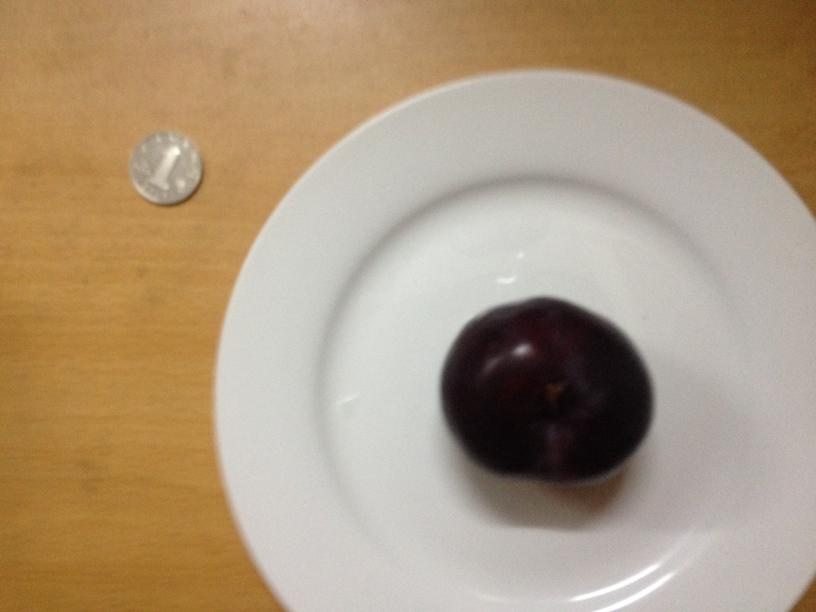coin: (130, 131, 201, 205)
plum: (441, 299, 649, 482)
